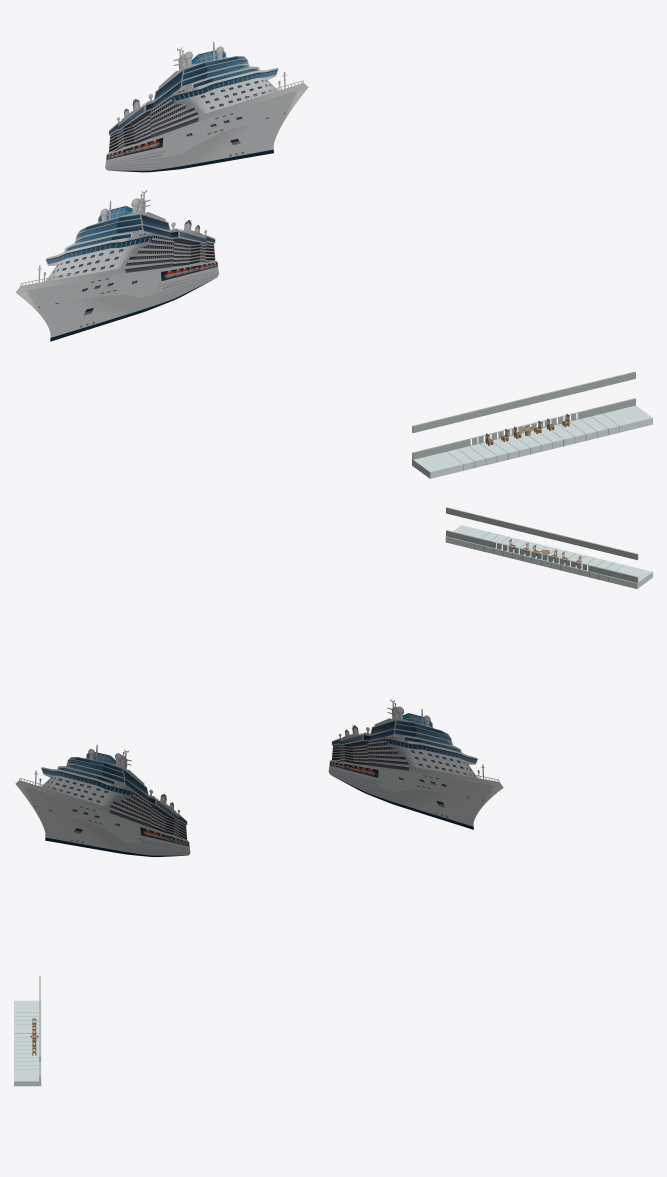
File: stage16.glb
The picture shows the model from 3 angles, top to bottom: view 1: azimuth 30°, elevation 25°; view 2: azimuth 150°, elevation 25°; view 3: azimuth 270°, elevation 25°; orthographic projection. The views are drawn at different scales.
Parts seen in each view (by area): view 1: Cruise_Ship_Transparent_png_Clip_Art_Image.png_2026-06-23_2, Cruise_Ship_Transparent_png_Clip_Art_Image.png_2026-06-23_20, Ground, Cube.001, Cube; view 2: Cruise_Ship_Transparent_png_Clip_Art_Image.png_2026-06-23_2, Cruise_Ship_Transparent_png_Clip_Art_Image.png_2026-06-23_20, Ground, Cube.001, Cube; view 3: Ground.
Boxes of the visible parts, x1,y1,x2,y2 form: Cruise_Ship_Transparent_png_Clip_Art_Image.png_2026-06-23_2: (105,42,308,172); Cruise_Ship_Transparent_png_Clip_Art_Image.png_2026-06-23_20: (15,190,218,341); Ground: (412,405,652,478); Cube.001: (412,371,635,432); Cube: (412,398,635,459); Cruise_Ship_Transparent_png_Clip_Art_Image.png_2026-06-23_2: (15,745,190,856); Cruise_Ship_Transparent_png_Clip_Art_Image.png_2026-06-23_20: (328,699,503,829); Ground: (445,525,652,588); Cube.001: (446,507,638,559); Cube: (446,530,638,582); Ground: (14,1000,41,1086).
Size of what is drawn, in the model's own units: 136 by 40 by 235.
6 materials, 2 textured.
